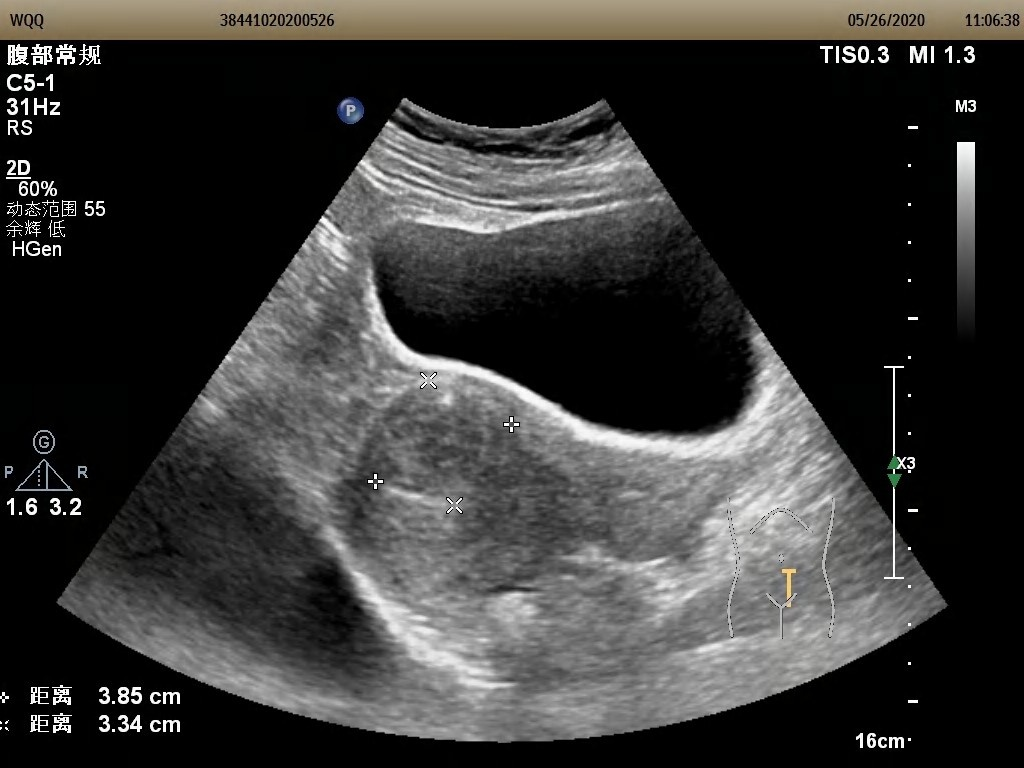肌瘤: (373, 381, 513, 506)
